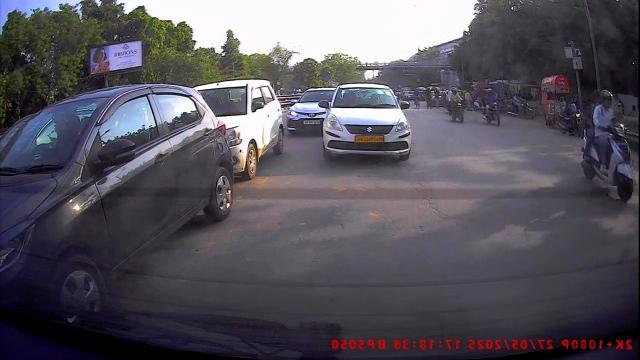motorcycle_with_helmet: (579, 88, 636, 202)
